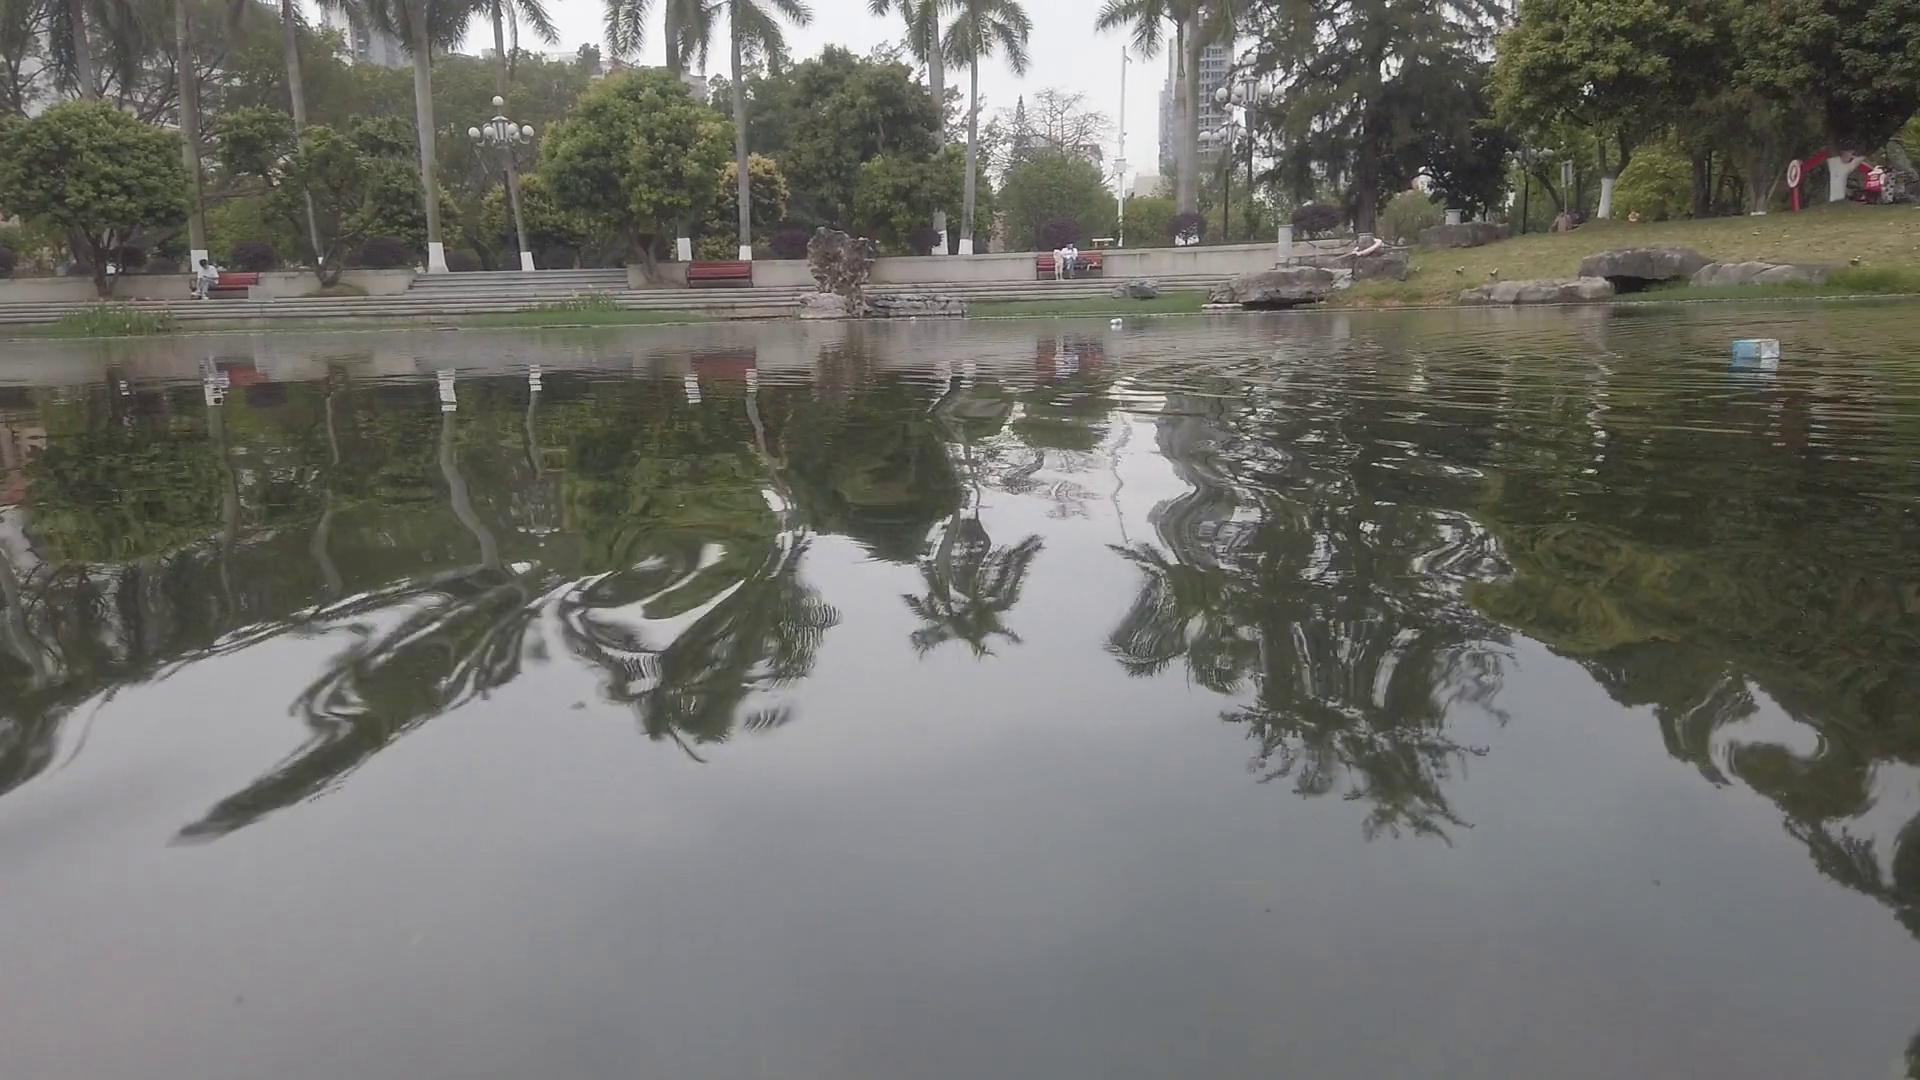bottle: (1110, 316, 1124, 326)
carton: (1734, 338, 1782, 361)
